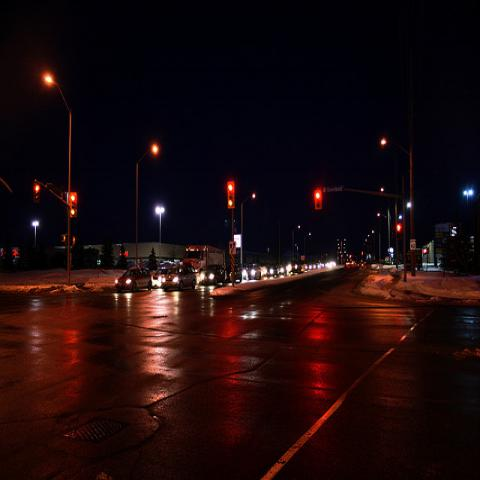car: (115, 267, 152, 293), (161, 265, 197, 291), (150, 267, 171, 288), (243, 264, 262, 280), (200, 270, 220, 285), (286, 260, 302, 274), (266, 264, 280, 278), (362, 263, 368, 269)
truck: (182, 245, 225, 286)
